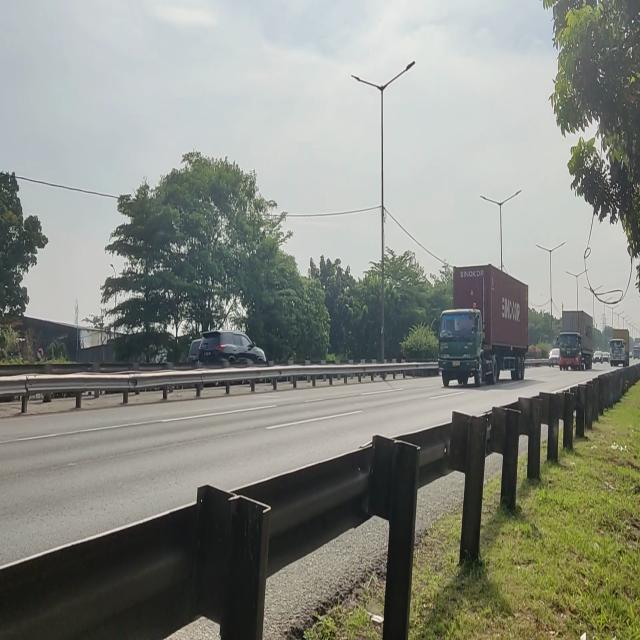Golongan IV: (436, 266, 530, 394)
